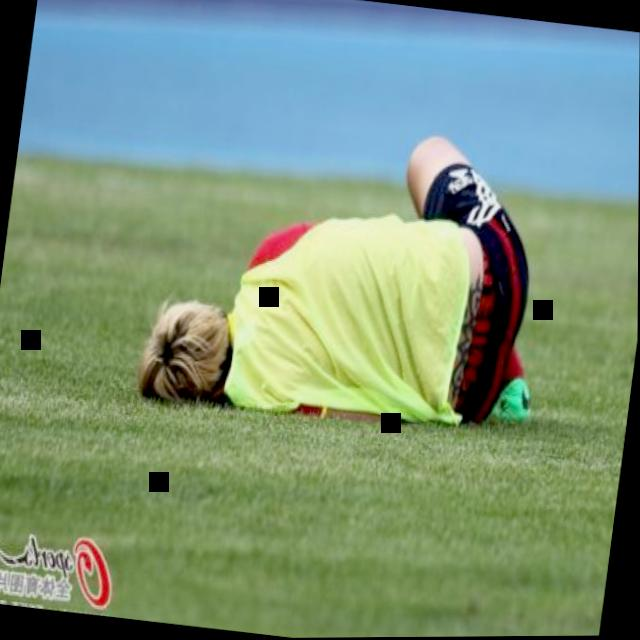Fall-Detected: (135, 74, 572, 452)
